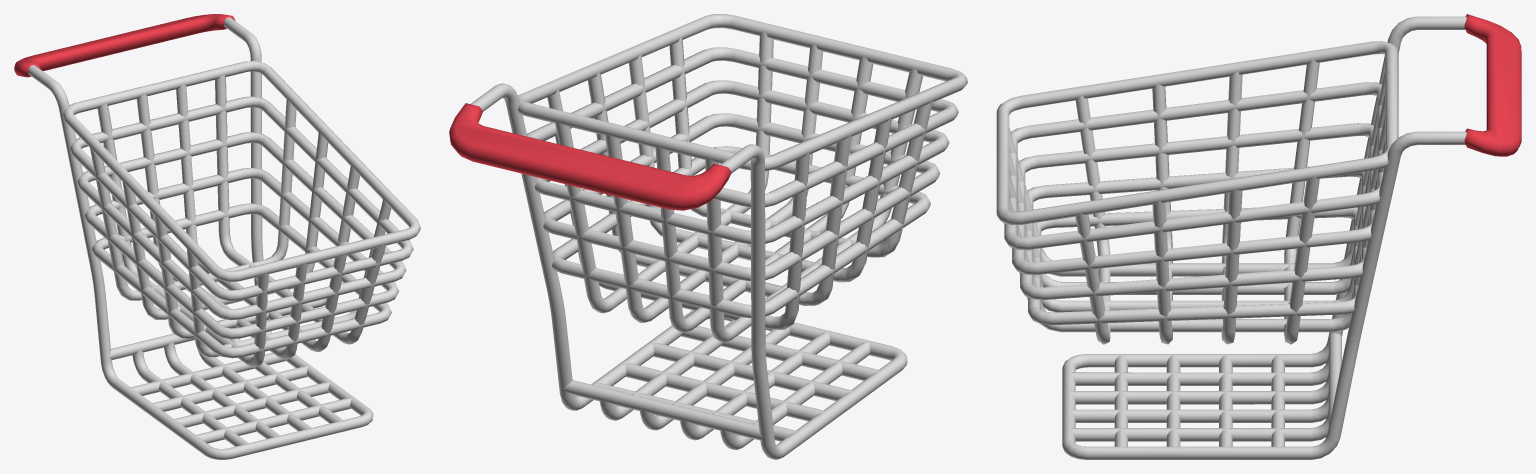
File: toy cart.fbx
3 renders of one model, left to right at view 1: azimuth 30°, elevation 25°; view 2: azimuth 150°, elevation 25°; view 3: azimuth 270°, elevation 25°, orthographic. The views are drawn at different scales.
Visible parts, largest first — view 1: cart.001; view 2: cart.001; view 3: cart.001.
Boxes of the visible parts, x1,y1,x2,y2 form: cart.001: (14,14,420,459); cart.001: (449,14,967,459); cart.001: (996,14,1521,459).
Bounding box in the file's own units: 67.12 × 86.37 × 121.
